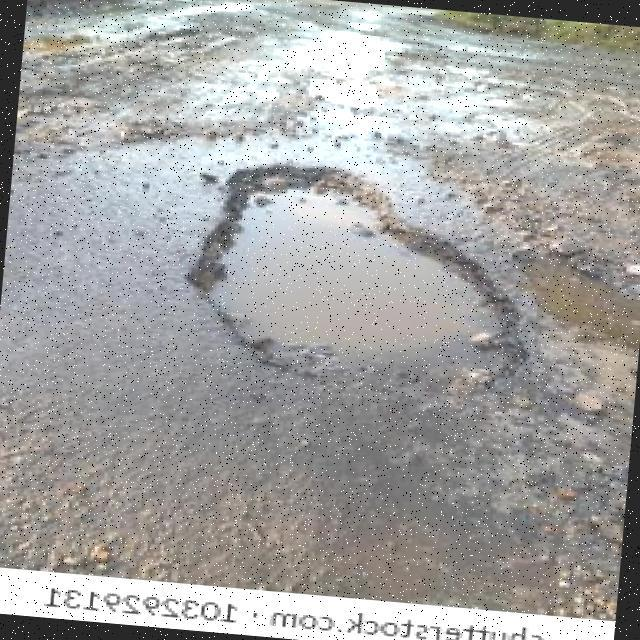Pothole: (186, 166, 529, 374)
